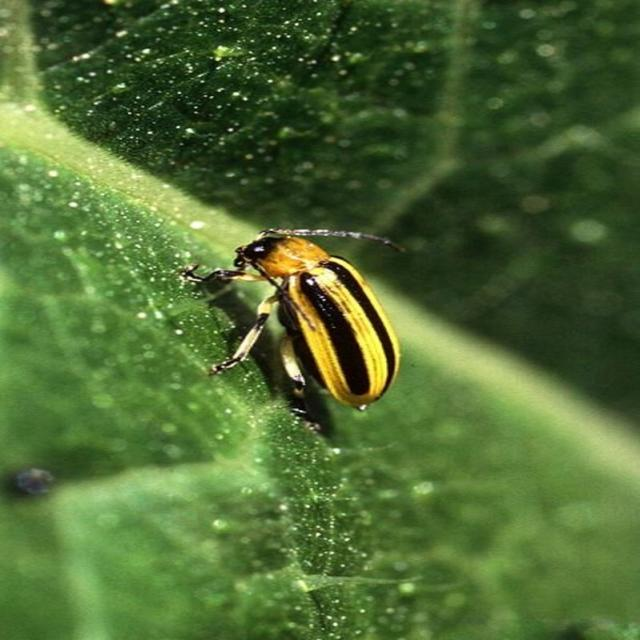cucumber_beetle: (169, 210, 421, 433)
